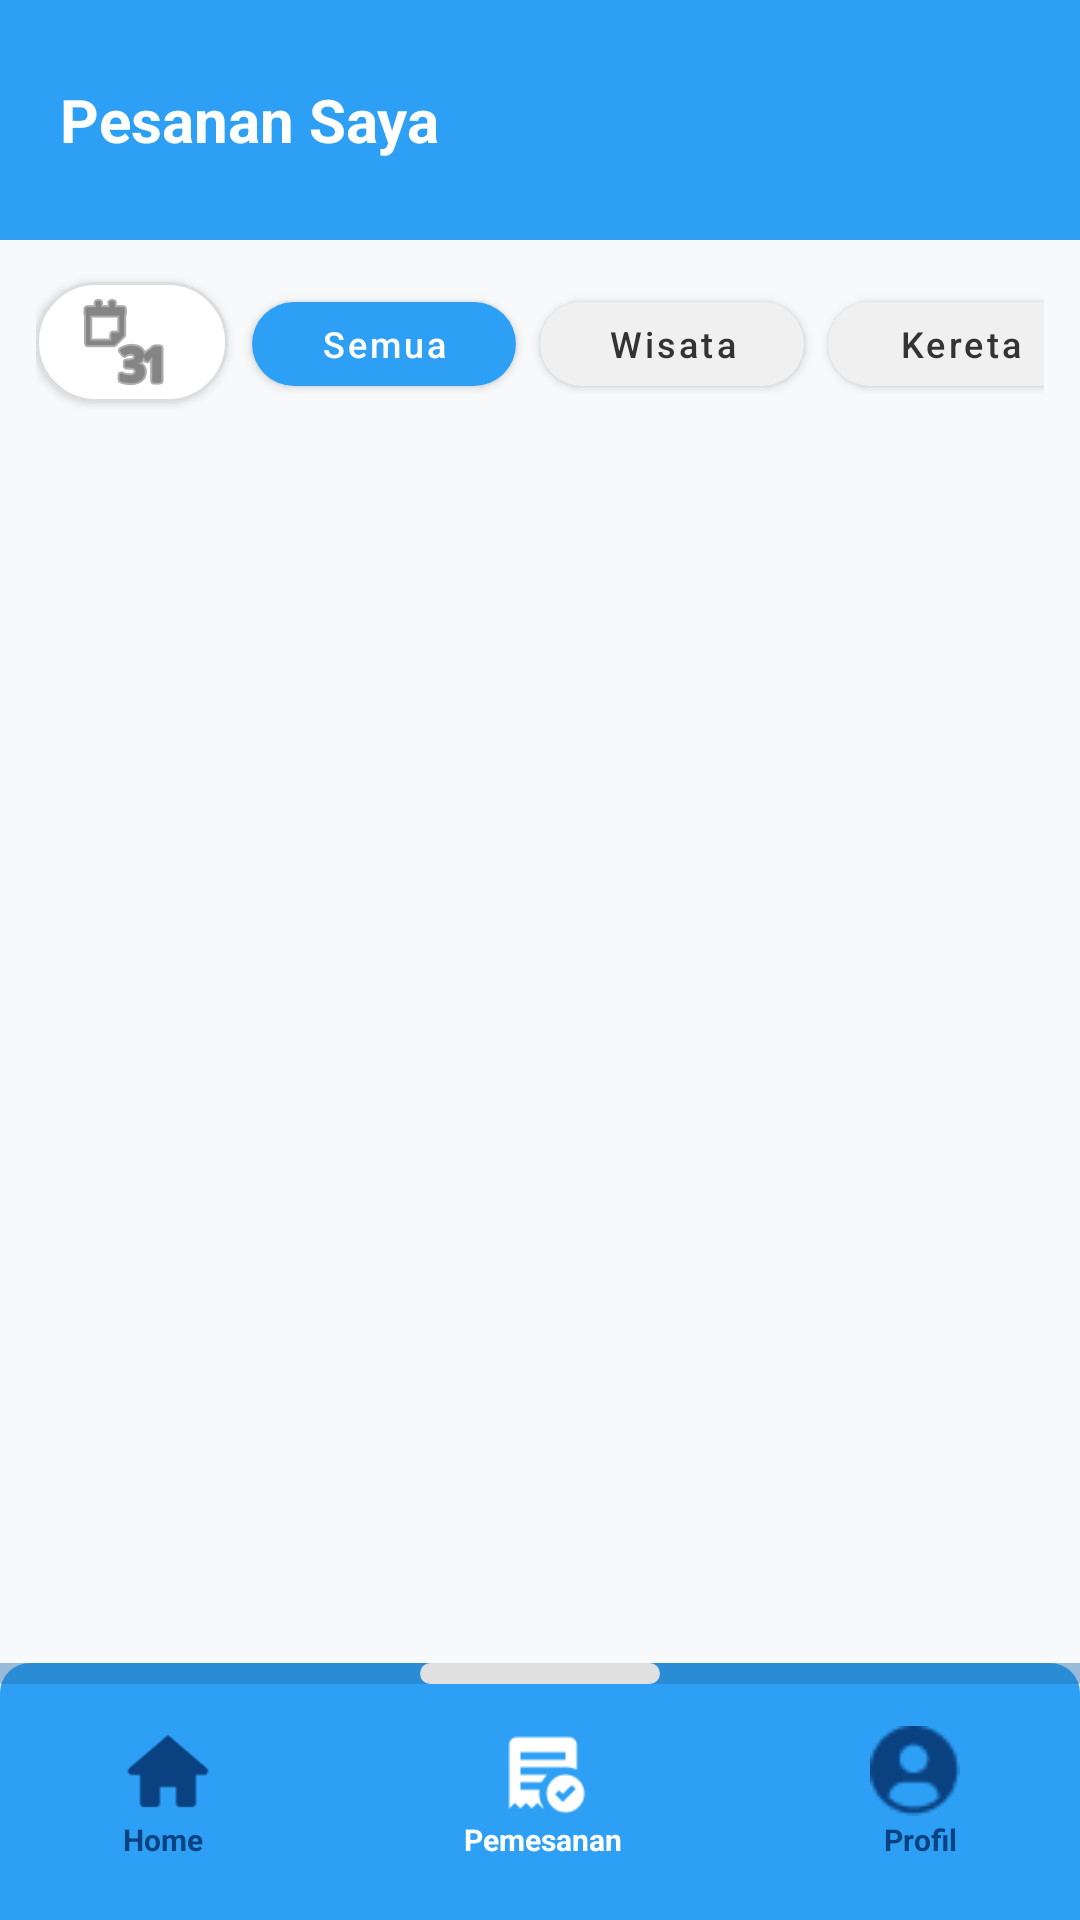

Locate icon controls on the screen. Image size 1080×1920, boxes as (x1, y1, x2, y2).
month: (36, 282, 228, 402)
